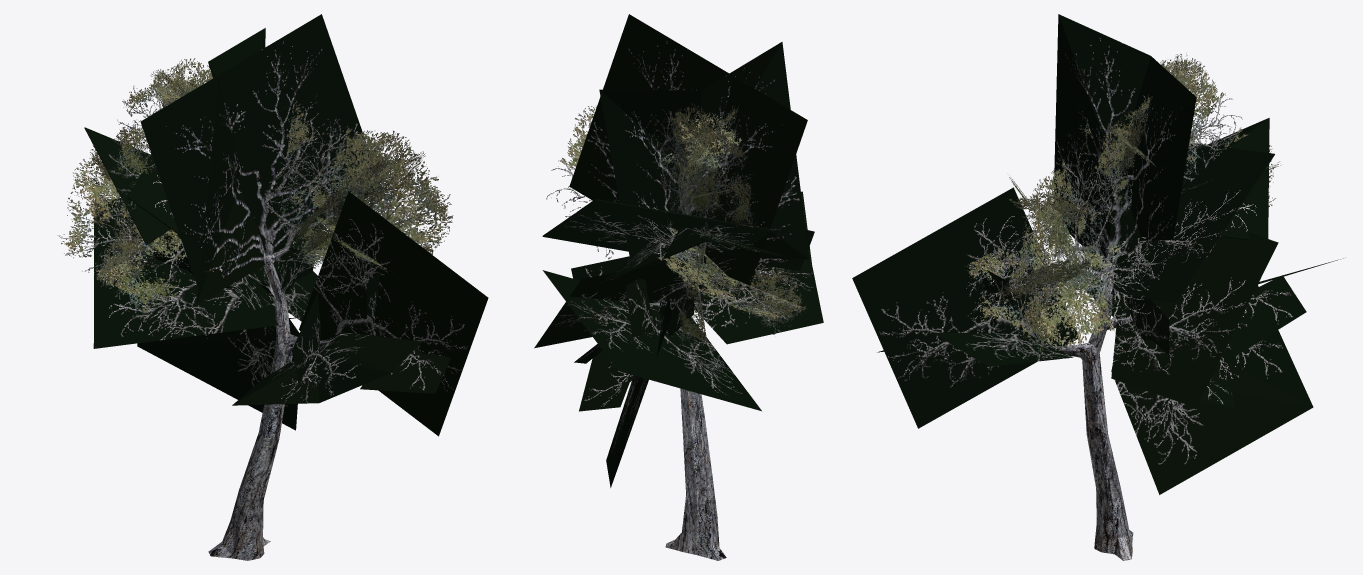
The model's file is Tree.fbx.
3 renders of one model, left to right at view 1: azimuth 30°, elevation 25°; view 2: azimuth 150°, elevation 25°; view 3: azimuth 270°, elevation 25°, orthographic.
Parts seen in each view (by area): view 1: vetve04, vetve03a, vetve05a, vetve02, vetve03, vetve08, kmen, vetve07, vetve01, vetve05; view 2: vetve04, vetve02, vetve05a, vetve05, vetve01, vetve03, kmen, vetve07, vetve08; view 3: vetve04, vetve03a, vetve05, vetve08, vetve05a, vetve01, kmen, vetve02, vetve07, vetve03.
Part boxes in pixels (<box>): vetve04: <box>140,14,379,304</box>; vetve03a: <box>299,191,488,436</box>; vetve05a: <box>93,198,299,430</box>; vetve02: <box>57,58,325,319</box>; vetve03: <box>232,271,450,405</box>; vetve08: <box>264,122,453,273</box>; kmen: <box>208,244,327,560</box>; vetve07: <box>96,71,452,299</box>; vetve01: <box>84,83,323,256</box>; vetve05: <box>177,234,317,321</box>; vetve04: <box>569,14,808,292</box>; vetve02: <box>634,103,806,345</box>; vetve05a: <box>542,270,761,487</box>; vetve05: <box>534,248,749,411</box>; vetve01: <box>542,199,782,284</box>; vetve03: <box>694,191,823,344</box>; kmen: <box>649,212,726,560</box>; vetve07: <box>578,113,807,334</box>; vetve08: <box>546,106,684,259</box>; vetve04: <box>1053,14,1196,274</box>; vetve03a: <box>852,187,1078,428</box>; vetve05: <box>1085,232,1306,408</box>; vetve08: <box>964,143,1154,358</box>; vetve05a: <box>1111,258,1343,494</box>; vetve01: <box>1110,118,1274,302</box>; kmen: <box>1052,261,1133,560</box>; vetve02: <box>1079,52,1280,225</box>; vetve07: <box>997,58,1209,302</box>; vetve03: <box>877,267,1073,366</box>.
Size of what is drawn, in the model's own units: 637 by 955 by 826.
